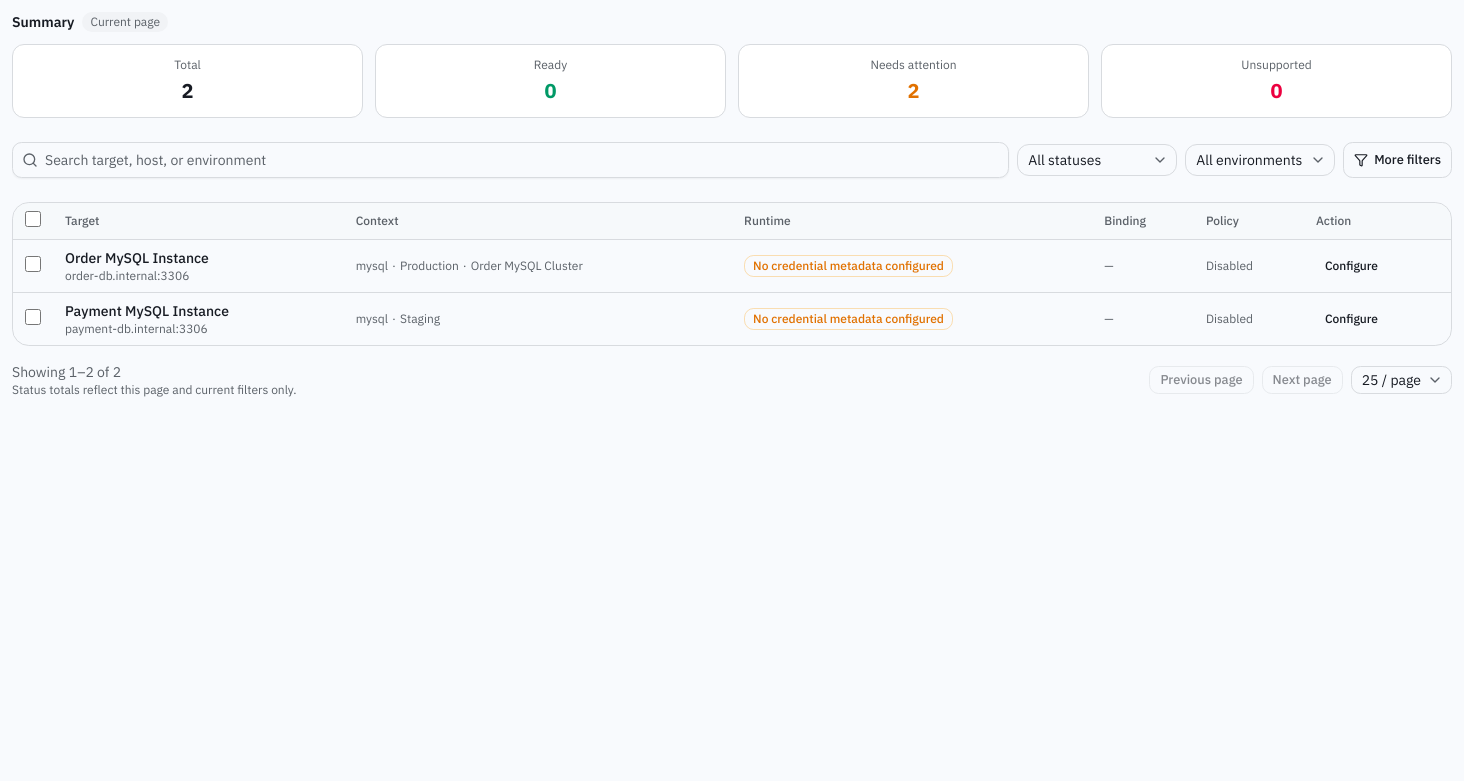
Test case: QueryCredentialSettings — bulk apply all_environments confirmation › disables apply button until all_environments is confirmed
Expected: the button "Order MySQL Instance" is shown, [65,248,209,268]
Note: Select all.
Click the checkbox named "Select all": coordinates (33, 219) [25,211,41,227]
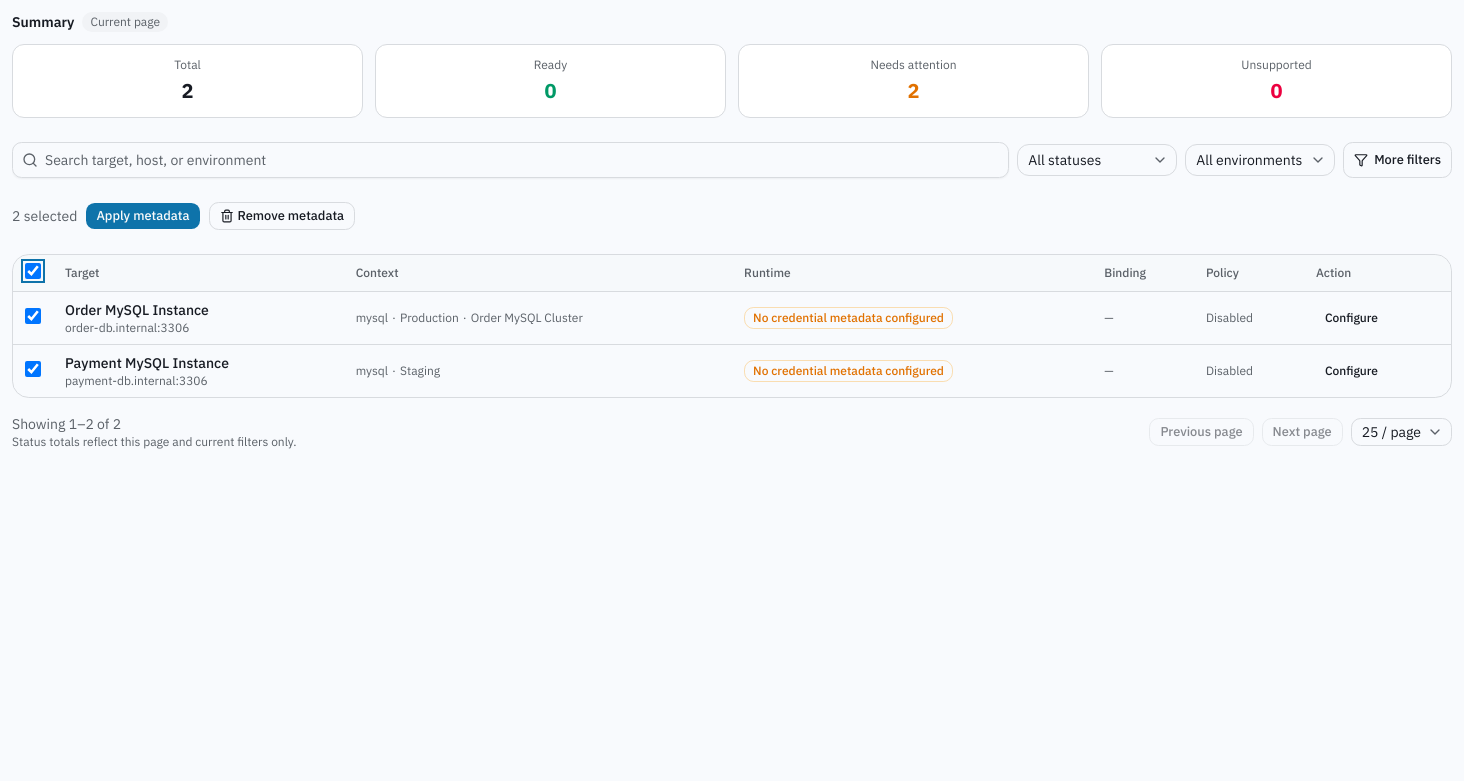
Click the button "Apply metadata": coordinates (143, 216) [85,202,200,230]
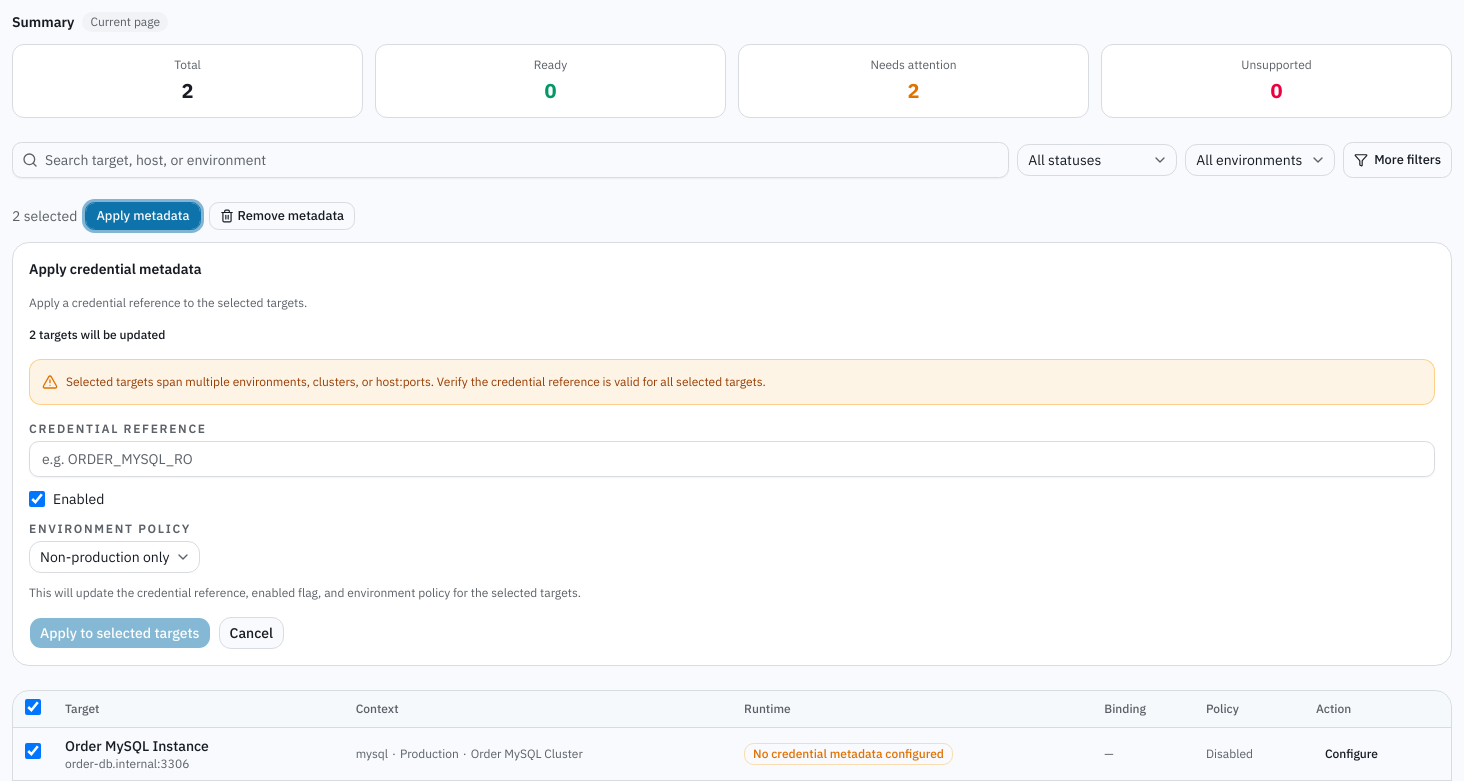
Note: Fill credential ref.
In the field labelled "Credential reference": coordinates (732, 458) [29,440,1435,476], type "TEST_REF"
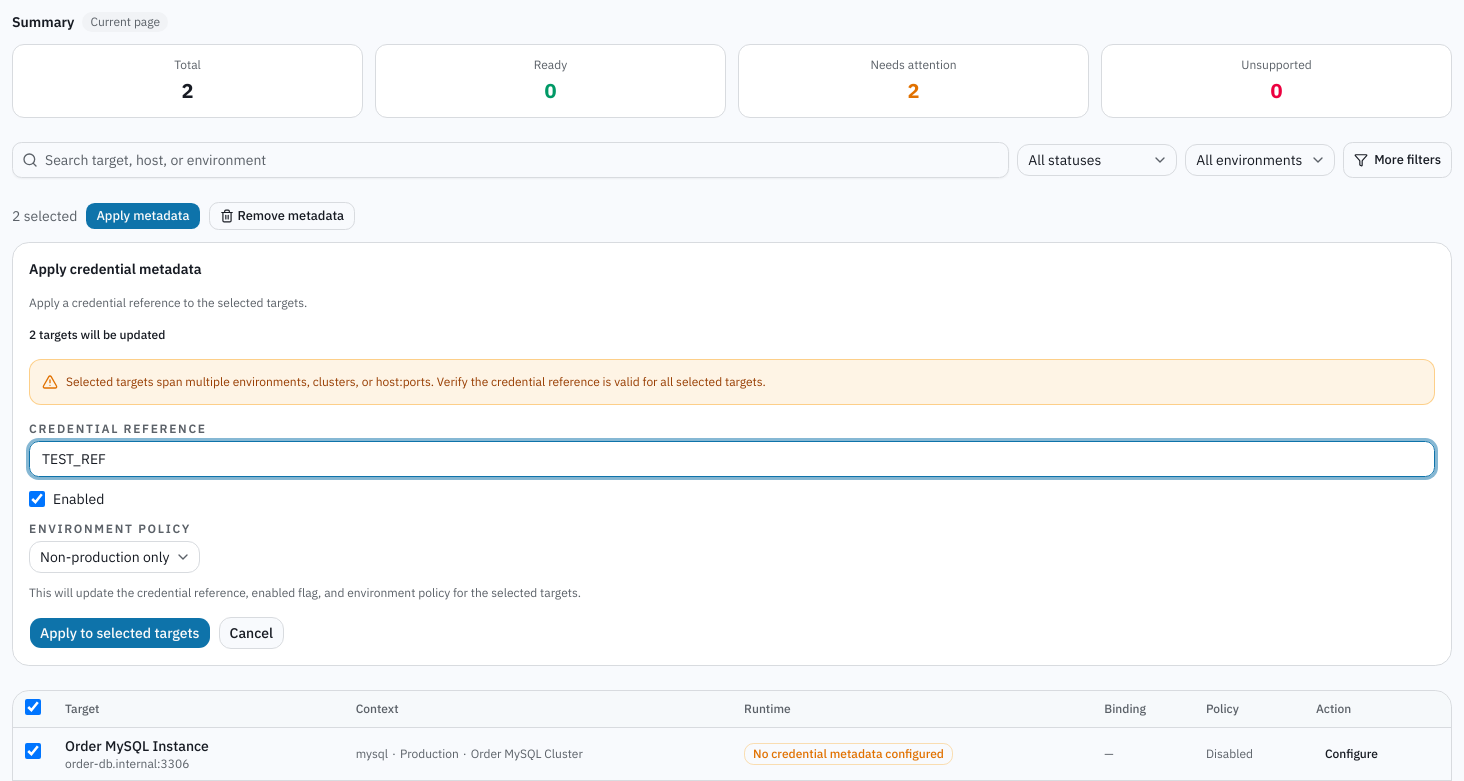
Expected: the field labelled "i understand" is not shown
Expected: the dropdown with id "bulk-environment-policy" is shown
Click the dropdown with id "bulk-environment-policy": coordinates (115, 556) [29,540,200,572]
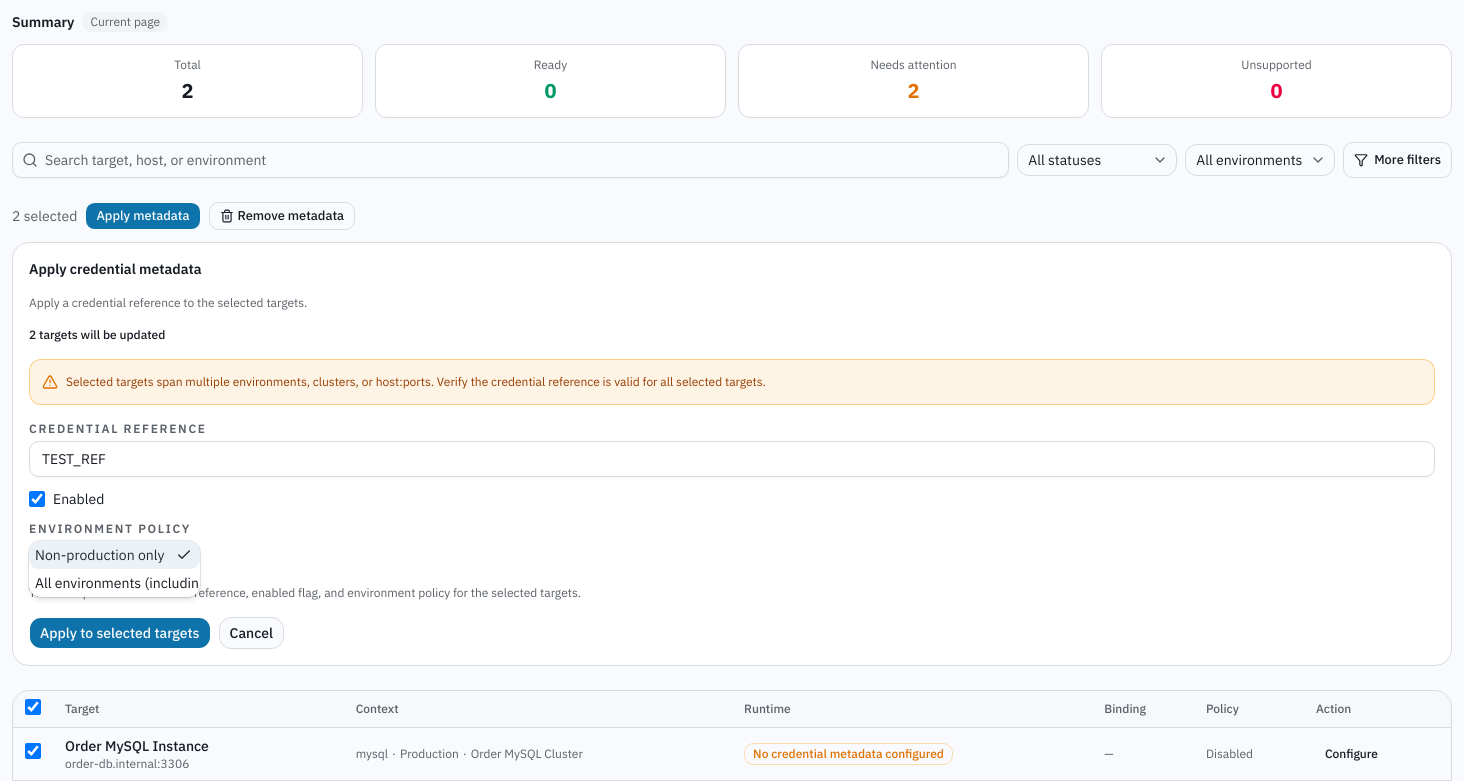
Expected: the option "All environments (including production)" is shown
Click the option "All environments (including production)": coordinates (114, 582) [29,568,200,596]
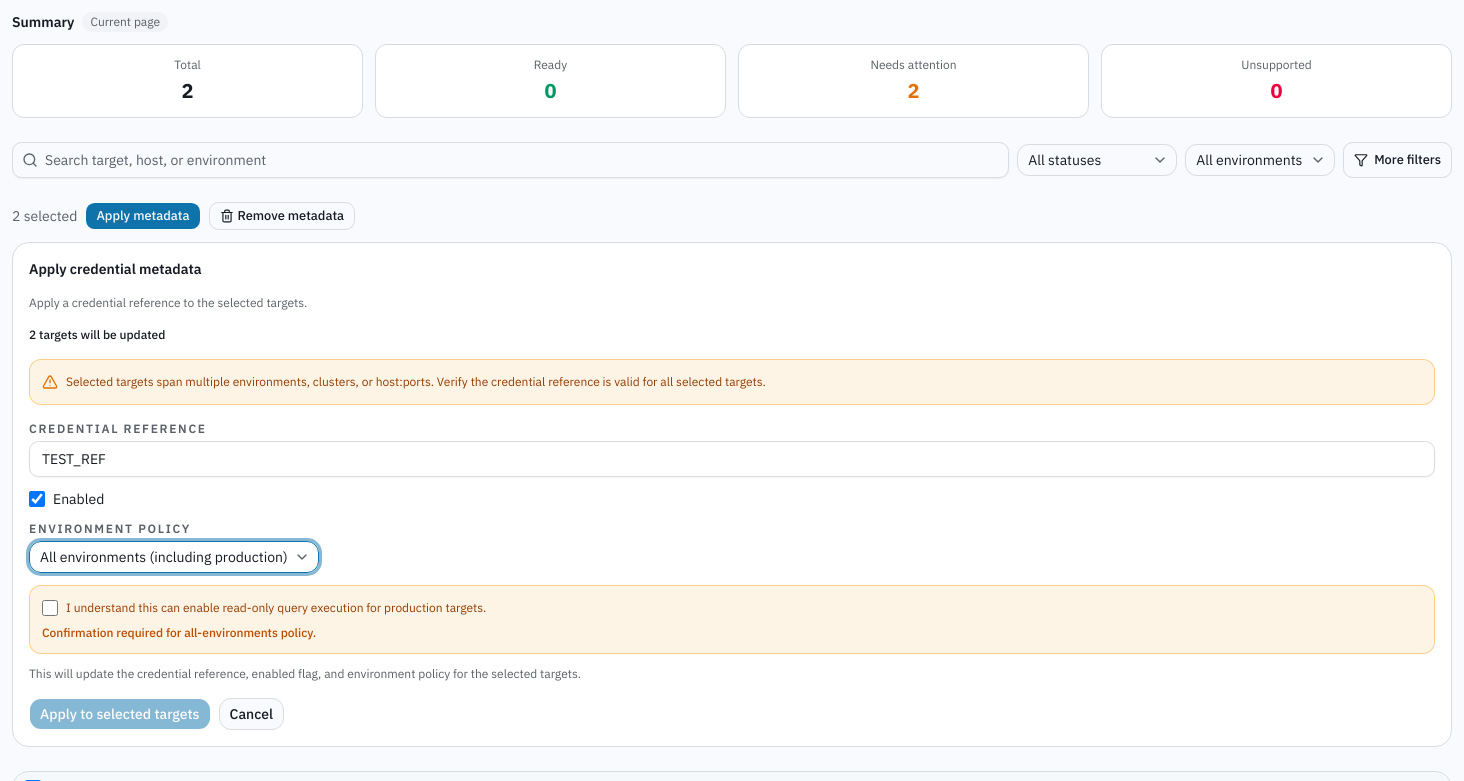
Expected: the checkbox labelled "I understand" is shown
Expected: the button "Apply to selected targets" is disabled, [29,698,210,730]
Note: Confirm all environments.
Click the checkbox labelled "I understand": coordinates (50, 608) [42,600,58,616]
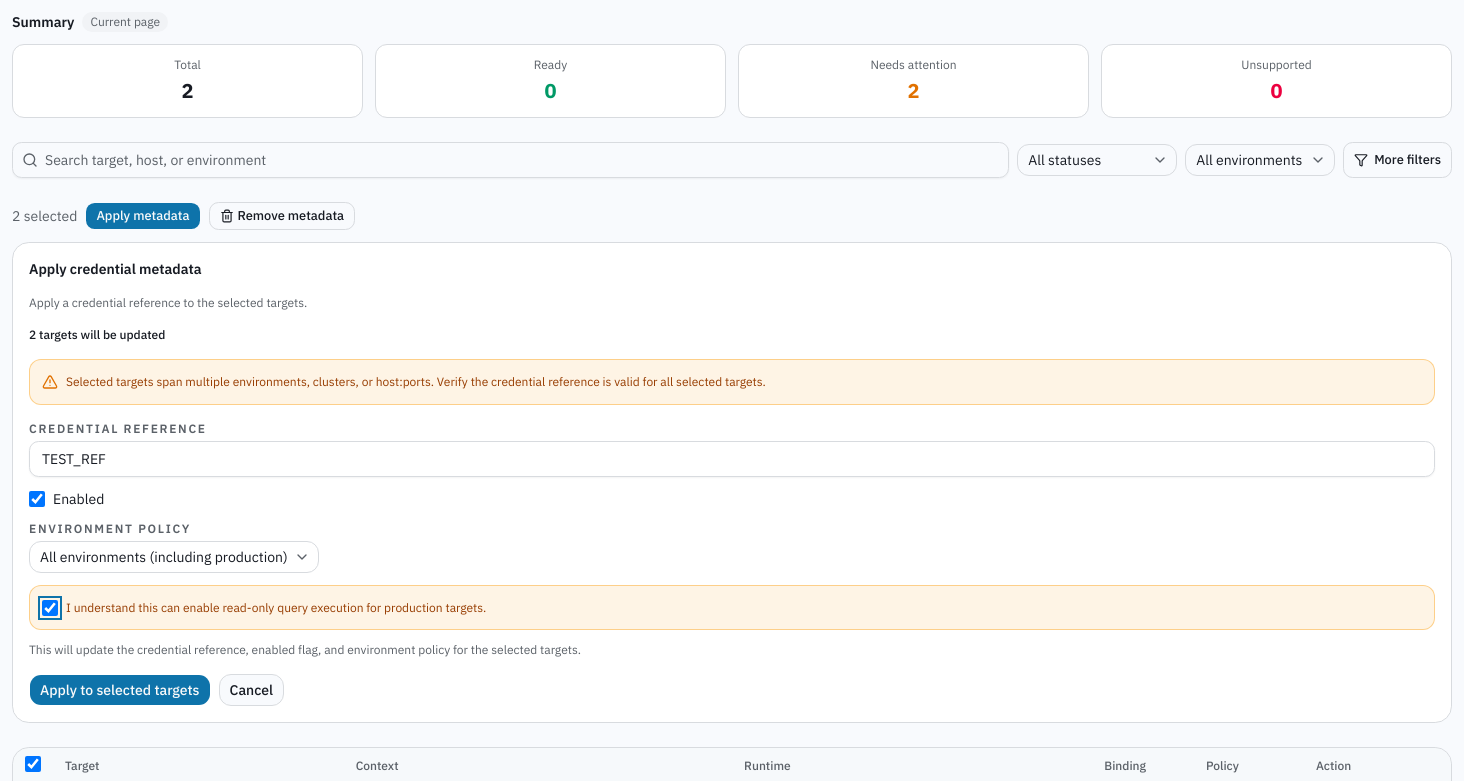
Expected: the button "Apply to selected targets" is enabled, [29,674,210,706]
